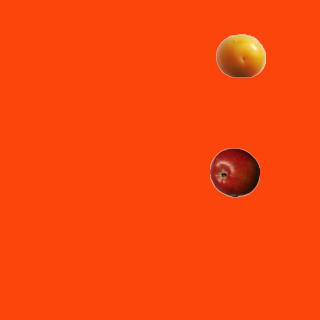Apple Braeburn: (209, 147, 259, 197)
Cherry Wax Yellow: (215, 30, 265, 80)
